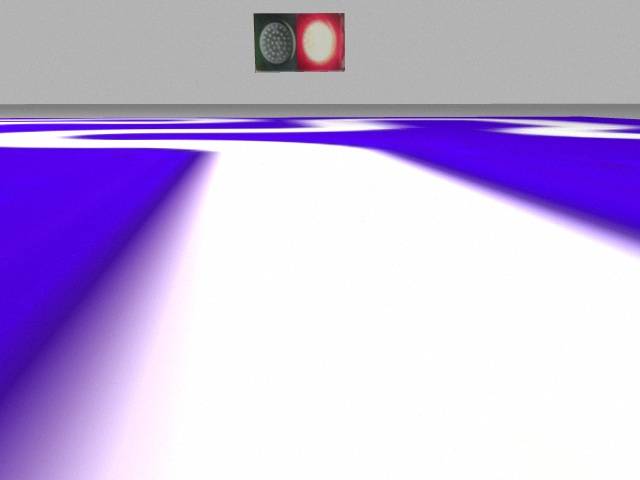red: (295, 12, 346, 71)
